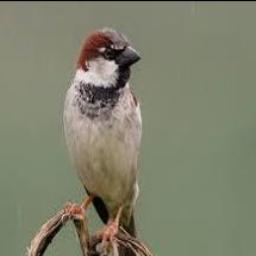Sparrow: (62, 26, 144, 256)
